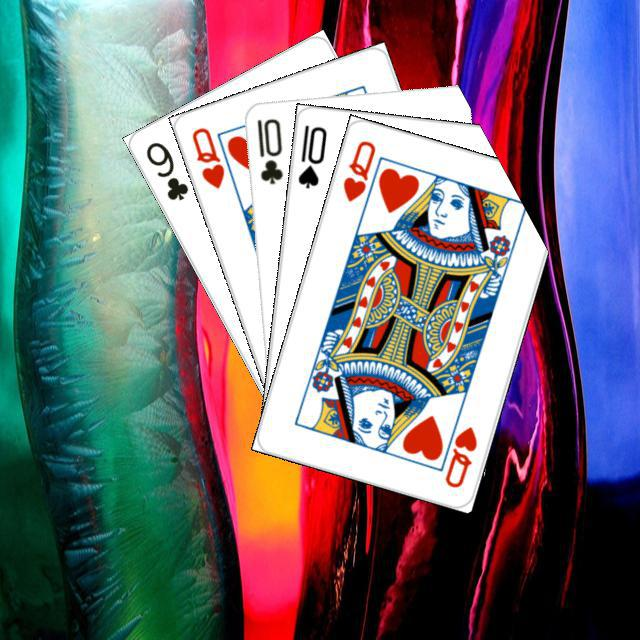10c: (252, 113, 284, 186)
10s: (293, 120, 329, 190)
9c: (140, 136, 190, 203)
Qh: (435, 410, 479, 490), (187, 122, 227, 191), (338, 135, 377, 204)
